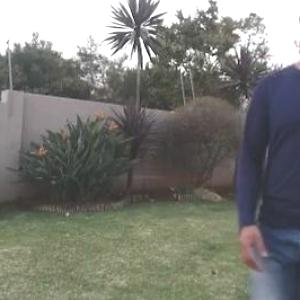follow: (231, 0, 299, 299)
